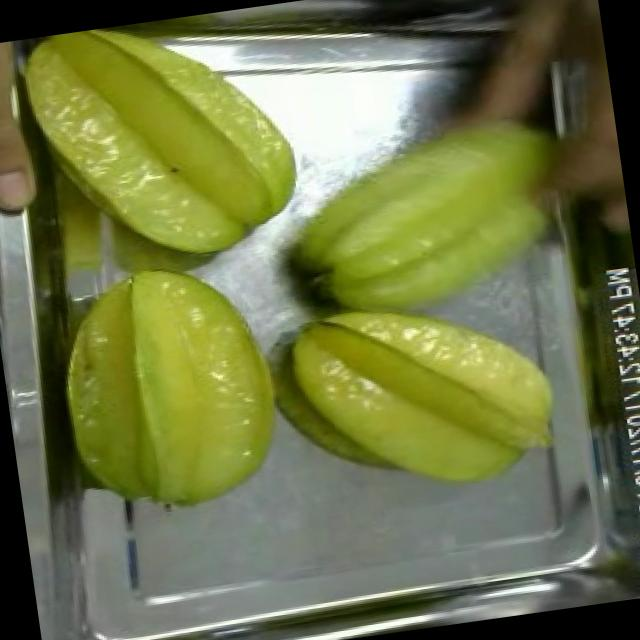fruit: (2, 0, 330, 295), (262, 81, 602, 360), (30, 234, 312, 542), (262, 262, 576, 518), (518, 8, 634, 267)
